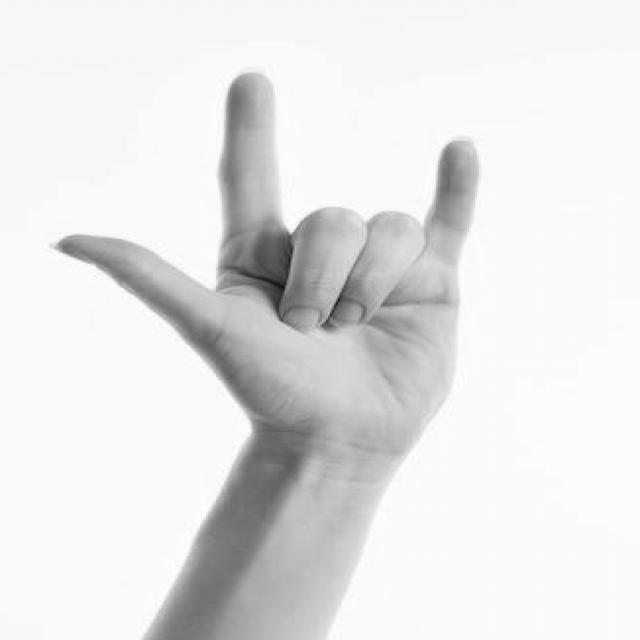i love you: (42, 62, 492, 487)
